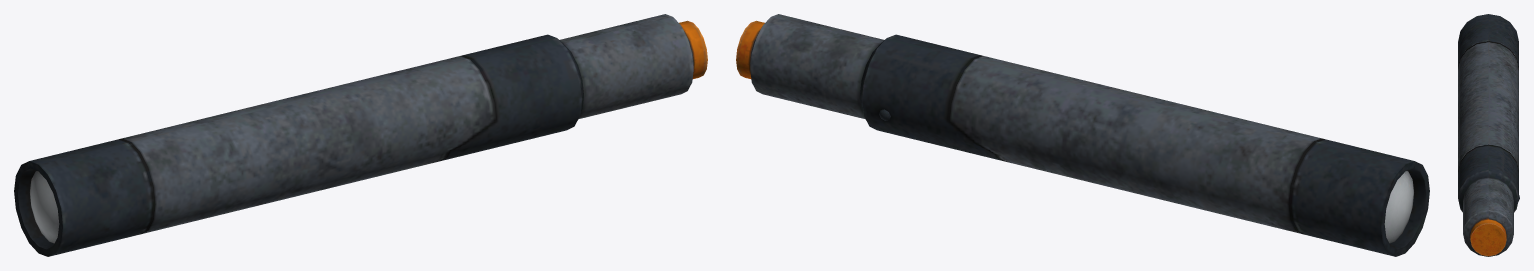
The model's file is flashlight_small.dae.
The picture shows the model from 3 angles, left to right: view 1: azimuth 30°, elevation 25°; view 2: azimuth 150°, elevation 25°; view 3: azimuth 270°, elevation 25°; orthographic projection. The views are drawn at different scales.
Visible parts, largest first — view 1: polySurface2; view 2: polySurface2; view 3: polySurface2.
Part boxes in pixels (left/top/right/bottom): polySurface2: left=14, top=14, right=707, bottom=256; polySurface2: left=736, top=14, right=1429, bottom=256; polySurface2: left=1458, top=14, right=1519, bottom=256.
Bounding box in the file's own units: 0.3 × 0.0389 × 0.0395.
